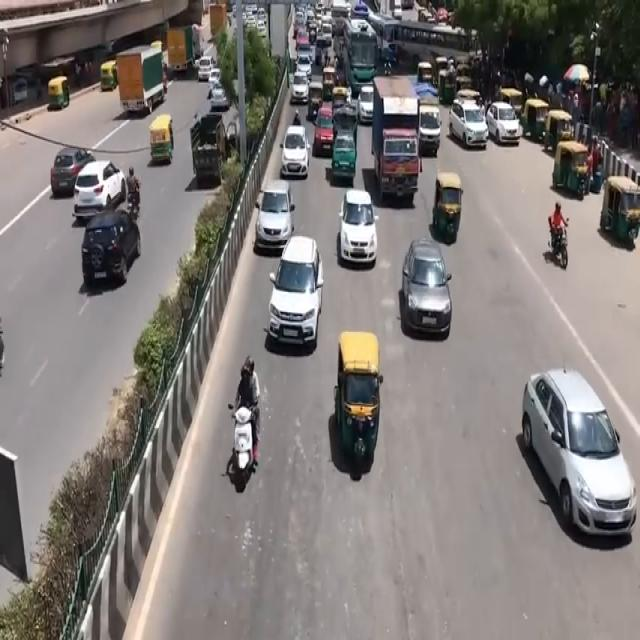BUS: (345, 18, 379, 85)
MOTORCYCLE: (232, 409, 256, 496), (552, 218, 570, 268)
TRUCK: (367, 76, 419, 202), (118, 45, 168, 115)
